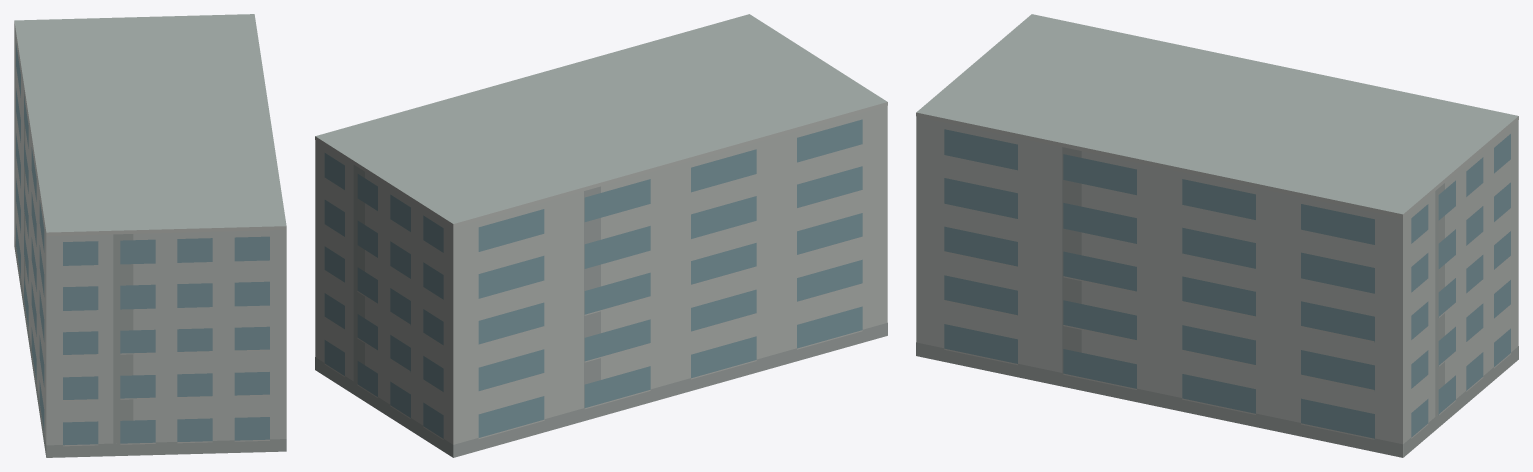
Rendered from residential-89554360-0fea-4b1d-9e9f-4e47cfe86d91.glb.
3 views of the same model, side by side, from view 1: azimuth 30°, elevation 25°; view 2: azimuth 150°, elevation 25°; view 3: azimuth 270°, elevation 25° (orthographic). The views are drawn at different scales.
Visible parts, largest first — view 1: residential-89554360-0fea-4b1d-9e9f-4e47cfe86d91.tmp; view 2: residential-89554360-0fea-4b1d-9e9f-4e47cfe86d91.tmp; view 3: residential-89554360-0fea-4b1d-9e9f-4e47cfe86d91.tmp.
Part boxes in pixels (x1,y1,x2,y2): residential-89554360-0fea-4b1d-9e9f-4e47cfe86d91.tmp: [14, 14, 286, 457]; residential-89554360-0fea-4b1d-9e9f-4e47cfe86d91.tmp: [315, 14, 887, 457]; residential-89554360-0fea-4b1d-9e9f-4e47cfe86d91.tmp: [916, 14, 1518, 457].
Bounding box in the file's own units: 26.48 × 15 × 33.65.
